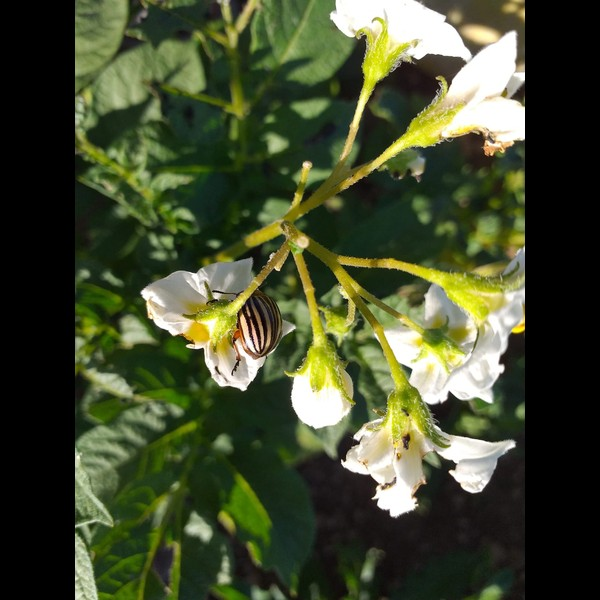hrosc: (229, 283, 282, 360)
